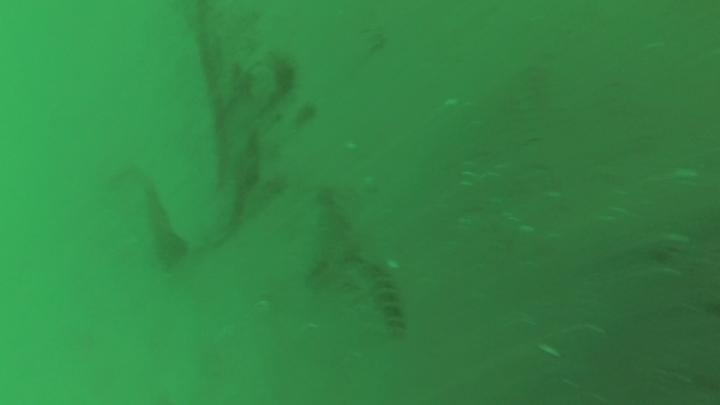echinus: (266, 52, 301, 100)
holothurian: (350, 252, 411, 343)
